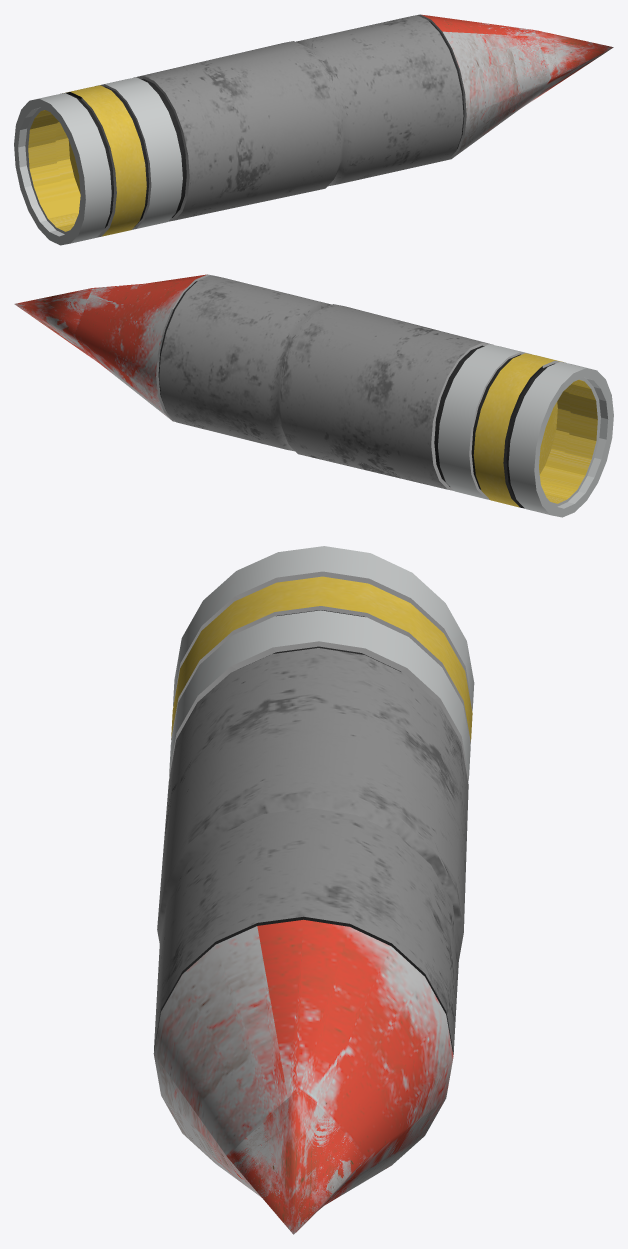
File: FinalTankShell.fbx
3 views of the same model, one above another, from view 1: azimuth 30°, elevation 25°; view 2: azimuth 150°, elevation 25°; view 3: azimuth 270°, elevation 25° (orthographic). The views are drawn at different scales.
Parts seen in each view (by area): view 1: pCylinder8; view 2: pCylinder8; view 3: pCylinder8.
Part boxes in pixels (box(x1,y1,x2,y2)): pCylinder8: box(14, 14, 613, 245); pCylinder8: box(14, 274, 613, 517); pCylinder8: box(153, 546, 474, 1234).
Bounding box in the file's own units: 35.77 × 8.55 × 8.9.
7 materials, 6 textured.
